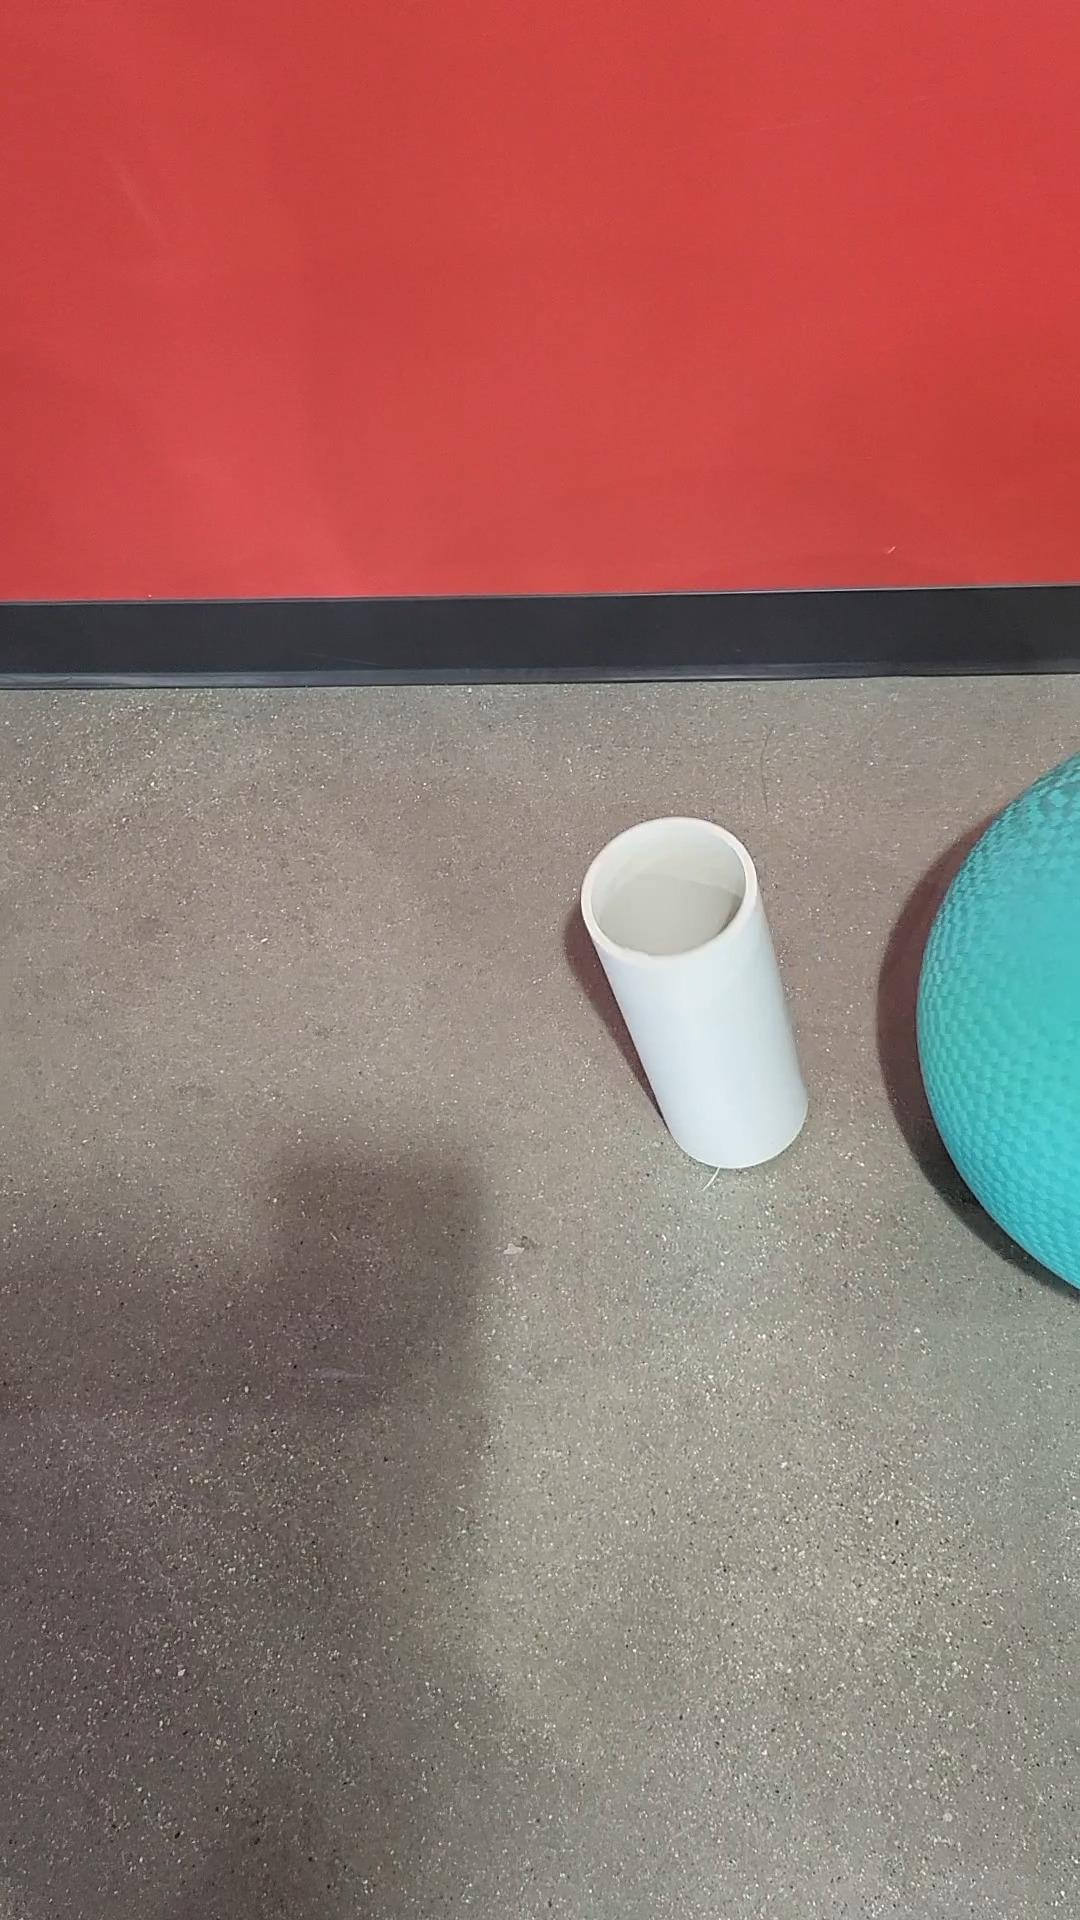algae: (906, 745, 1079, 1298), (582, 816, 811, 1168)
